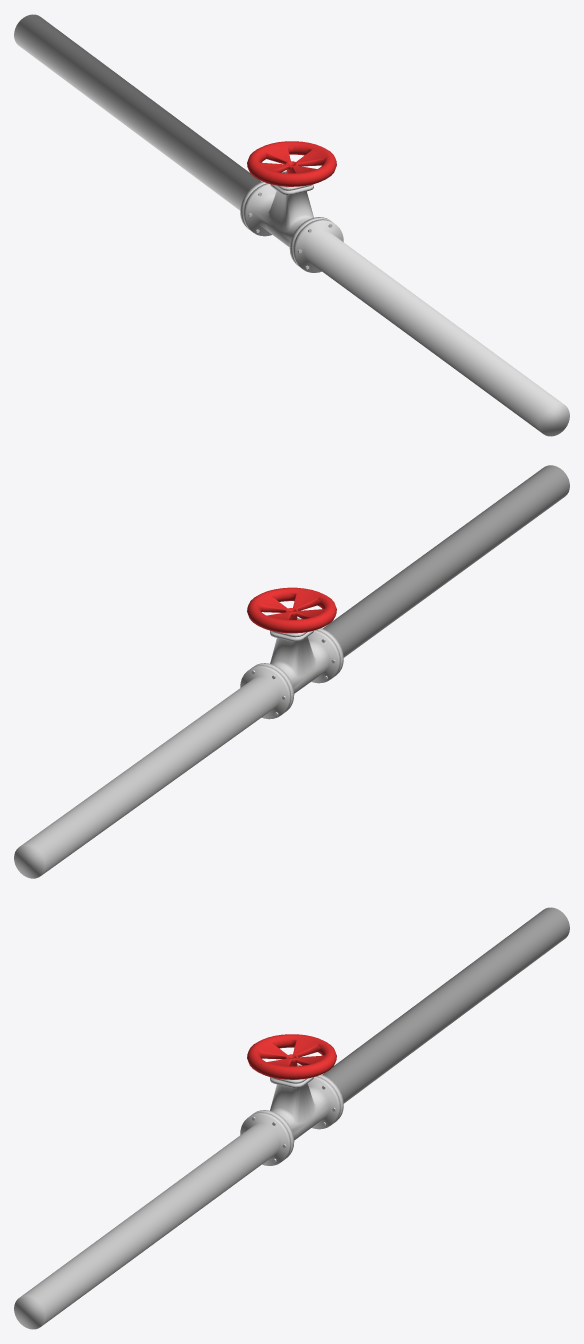
The model's file is vana.fbx.
The picture shows the model from 3 angles, top to bottom: view 1: azimuth 30°, elevation 25°; view 2: azimuth 150°, elevation 25°; view 3: azimuth 330°, elevation 25°; orthographic projection.
Visible parts, largest first — view 1: vana_1, vana_2; view 2: vana_1, vana_2; view 3: vana_1, vana_2.
Part boxes in pixels (x1,y1,x2,y2): vana_1: [14, 14, 569, 436]; vana_2: [247, 141, 336, 186]; vana_1: [14, 465, 569, 878]; vana_2: [247, 587, 336, 633]; vana_1: [14, 907, 569, 1329]; vana_2: [247, 1034, 336, 1079].
Bounding box in the file's own units: 40 × 46.04 × 466.
